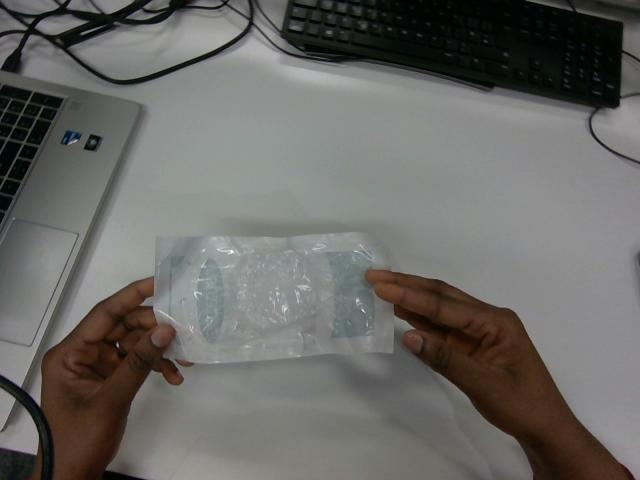gallipot: (154, 233, 393, 362)
